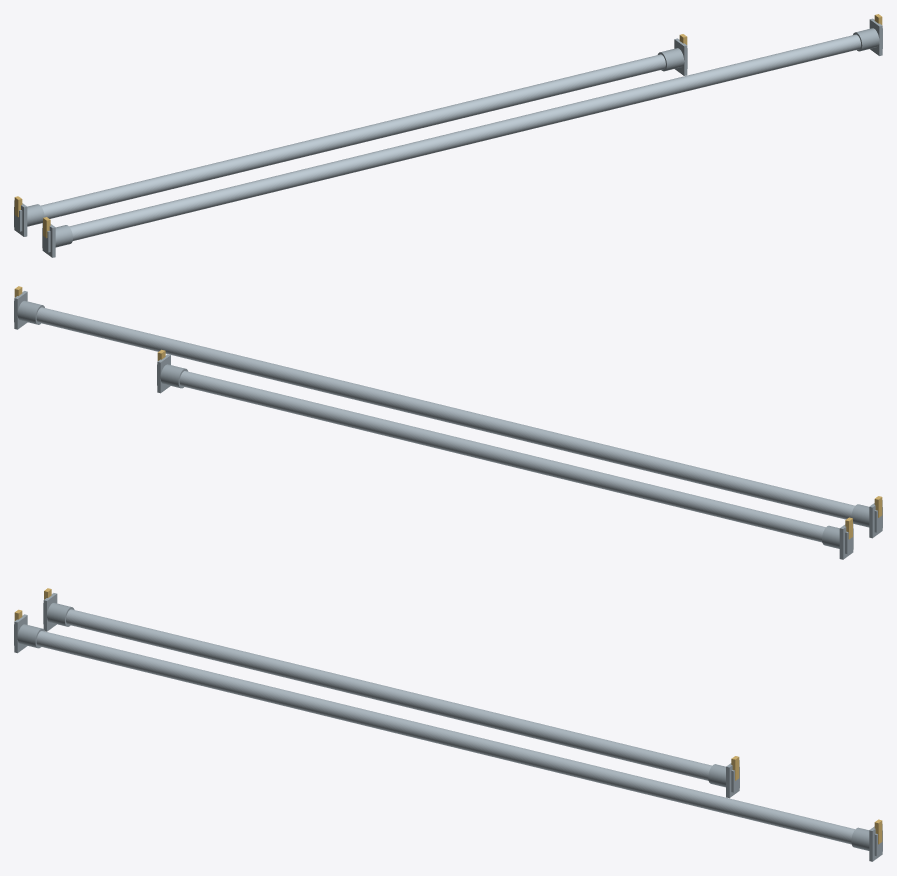
The model's file is Wellmade-ringlock-ledgers.glb.
The picture shows the model from 3 angles, top to bottom: view 1: azimuth 30°, elevation 25°; view 2: azimuth 150°, elevation 25°; view 3: azimuth 330°, elevation 25°; orthographic projection. The views are drawn at different scales.
Visible parts, largest first — view 1: WRL305 hollow ledger tube OD48.3 wall3, WRL244 hollow ledger tube OD48.3 wall3; view 2: WRL305 hollow ledger tube OD48.3 wall3, WRL244 hollow ledger tube OD48.3 wall3; view 3: WRL305 hollow ledger tube OD48.3 wall3, WRL244 hollow ledger tube OD48.3 wall3.
Boxes of the visible parts, left/top/right/bottom form: WRL305 hollow ledger tube OD48.3 wall3: left=69, top=34, right=860, bottom=240; WRL244 hollow ledger tube OD48.3 wall3: left=41, top=54, right=665, bottom=218; WRL305 hollow ledger tube OD48.3 wall3: left=36, top=307, right=854, bottom=519; WRL244 hollow ledger tube OD48.3 wall3: left=179, top=371, right=825, bottom=542; WRL305 hollow ledger tube OD48.3 wall3: left=36, top=631, right=854, bottom=844; WRL244 hollow ledger tube OD48.3 wall3: left=66, top=609, right=711, bottom=780.
Bounding box in the file's own units: 3056 × 125 × 242.
